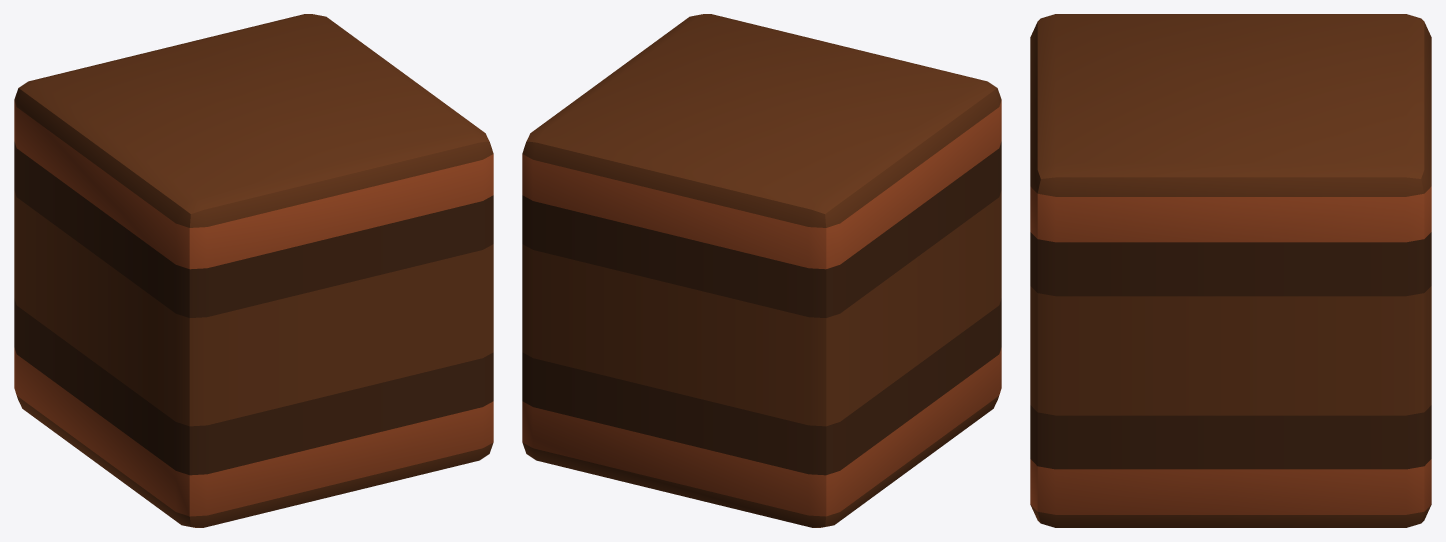
The model's file is Cube_Dirt_Single.fbx.
3 renders of one model, left to right at view 1: azimuth 30°, elevation 25°; view 2: azimuth 150°, elevation 25°; view 3: azimuth 270°, elevation 25°, orthographic. The views are drawn at different scales.
Parts seen in each view (by area): view 1: Cube_Dirt_Single; view 2: Cube_Dirt_Single; view 3: Cube_Dirt_Single.
Part boxes in pixels (x1=…): Cube_Dirt_Single: x1=14, y1=14, x2=493, y2=527; Cube_Dirt_Single: x1=522, y1=14, x2=1001, y2=527; Cube_Dirt_Single: x1=1030, y1=14, x2=1431, y2=527.
Size of the model in its own units: 200 by 200 by 200.
